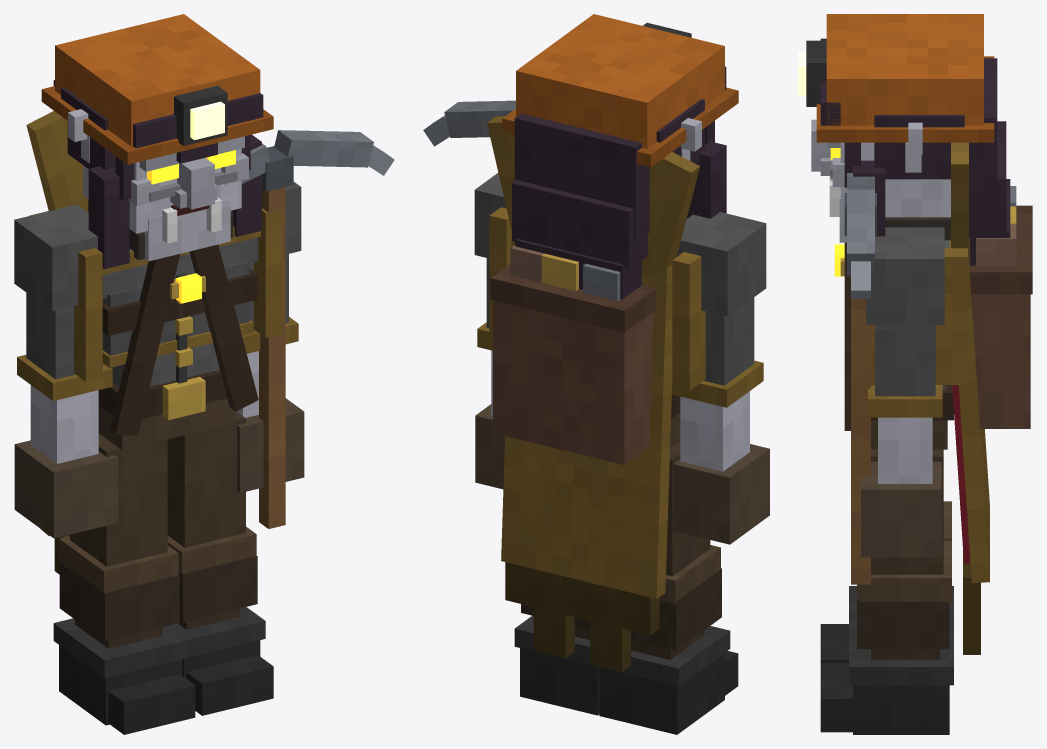
File: vampire_mineur_v3.glb
The picture shows the model from 3 angles, left to right: view 1: azimuth 30°, elevation 25°; view 2: azimuth 150°, elevation 25°; view 3: azimuth 270°, elevation 25°; orthographic projection. The views are drawn at different scales.
Visible parts, largest first — view 1: Head, Torso, LegR, ArmR, LegL, HandL, ArmL; view 2: Torso, Head, ArmR, LegR, LegL, ArmL, HandL; view 3: Head, Torso, ArmL, LegL, HandL, LegR.
Part boxes in pixels (box(x1,y1,x2,y2)): Head: box(41, 14, 273, 269); Torso: box(26, 111, 282, 574); LegR: box(53, 433, 195, 734); ArmR: box(14, 204, 118, 538); LegL: box(163, 411, 273, 715); HandL: box(241, 130, 394, 528); ArmL: box(236, 182, 304, 492); Torso: box(487, 116, 705, 671); Head: box(502, 14, 738, 299); ArmR: box(672, 212, 769, 544); LegR: box(594, 441, 738, 734); LegL: box(514, 604, 599, 715); ArmL: box(474, 173, 506, 489); HandL: box(423, 100, 515, 146); Head: box(798, 14, 1010, 265); Torso: box(834, 142, 1032, 654); ArmL: box(861, 227, 944, 557); LegL: box(820, 449, 953, 734); HandL: box(844, 173, 876, 584); LegR: box(820, 501, 953, 662).
Bounding box in the file's own units: 0.9897 × 1.77 × 0.58.
46 materials, 46 textured.
